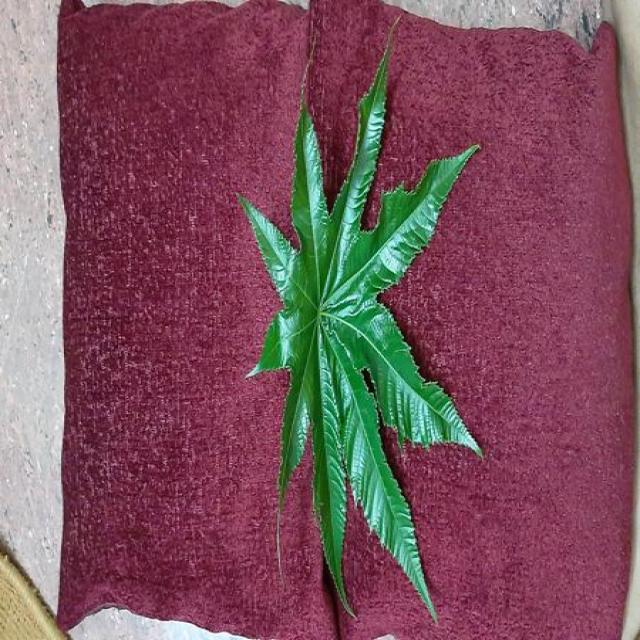castor: (240, 50, 482, 619)
